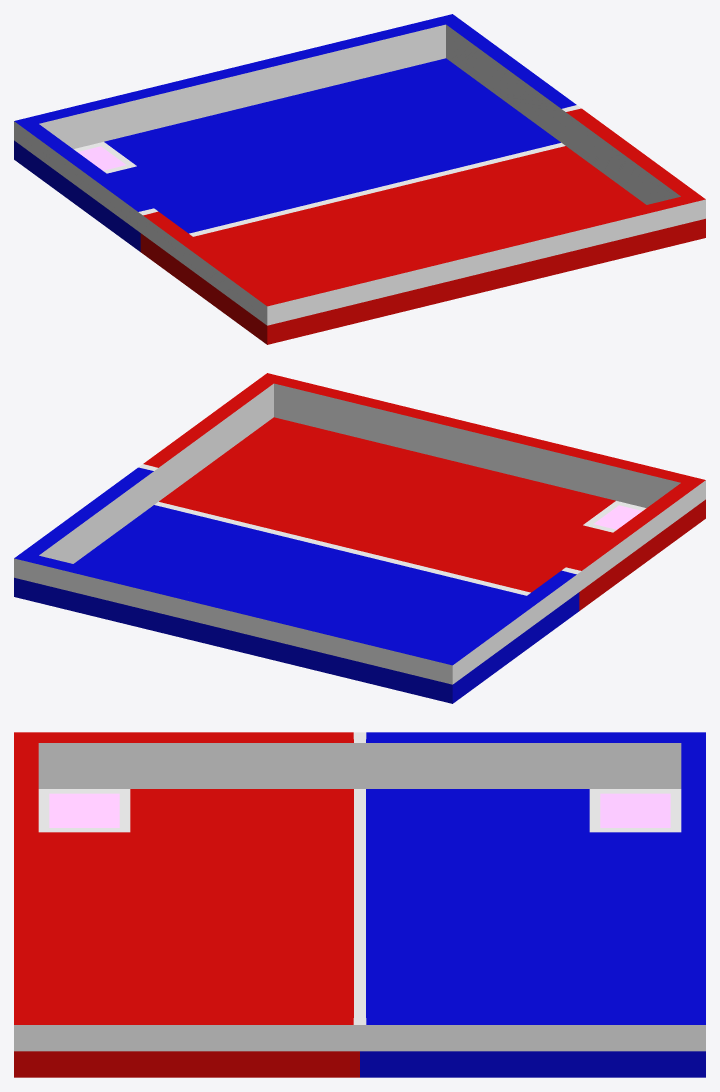
The model's file is floor 2.fbx.
3 views of the same model, one above another, from view 1: azimuth 30°, elevation 25°; view 2: azimuth 150°, elevation 25°; view 3: azimuth 270°, elevation 25° (orthographic). The views are drawn at different scales.
Visible parts, largest first — view 1: FIELD 2; view 2: FIELD 2; view 3: FIELD 2.
Boxes of the visible parts, <box> form: FIELD 2: <box>14,14,705,344</box>; FIELD 2: <box>14,373,705,703</box>; FIELD 2: <box>14,732,705,1077</box>.
Bounding box in the file's own units: 800 × 67.1 × 800.
